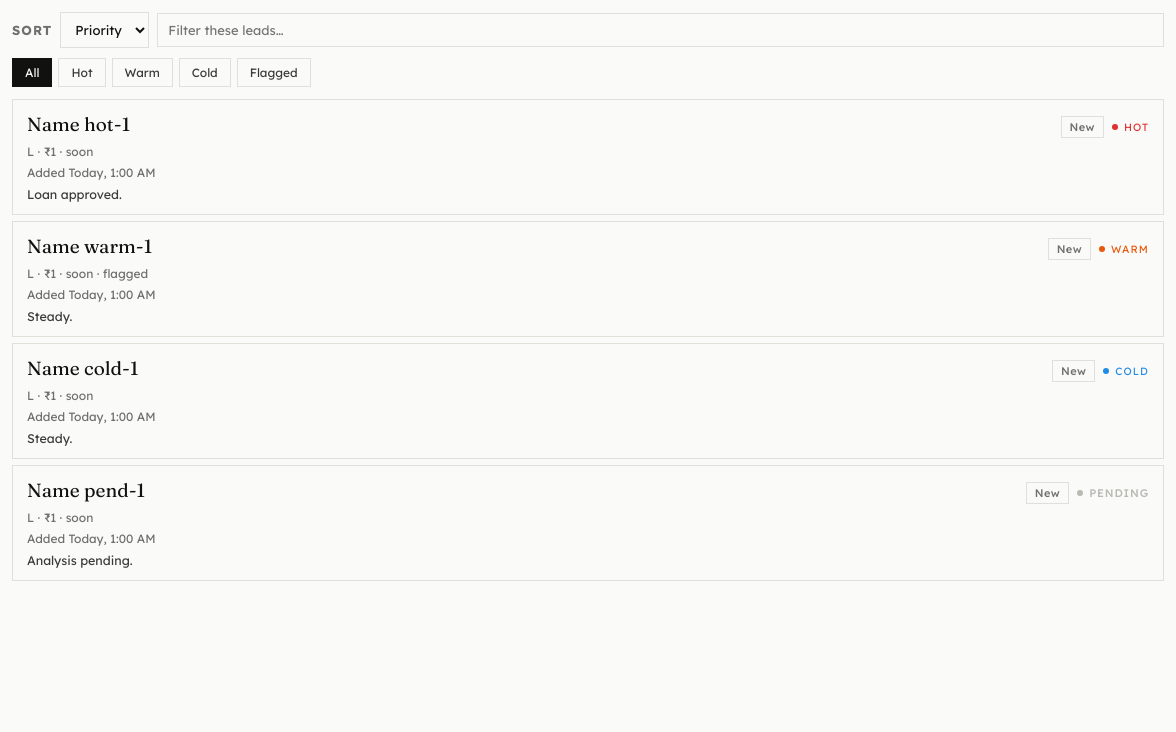
Scenario: flagged filter shows only leads with the flag
Step 1. Click the button "Flagged" → click(274, 72), box [237,58,311,87]
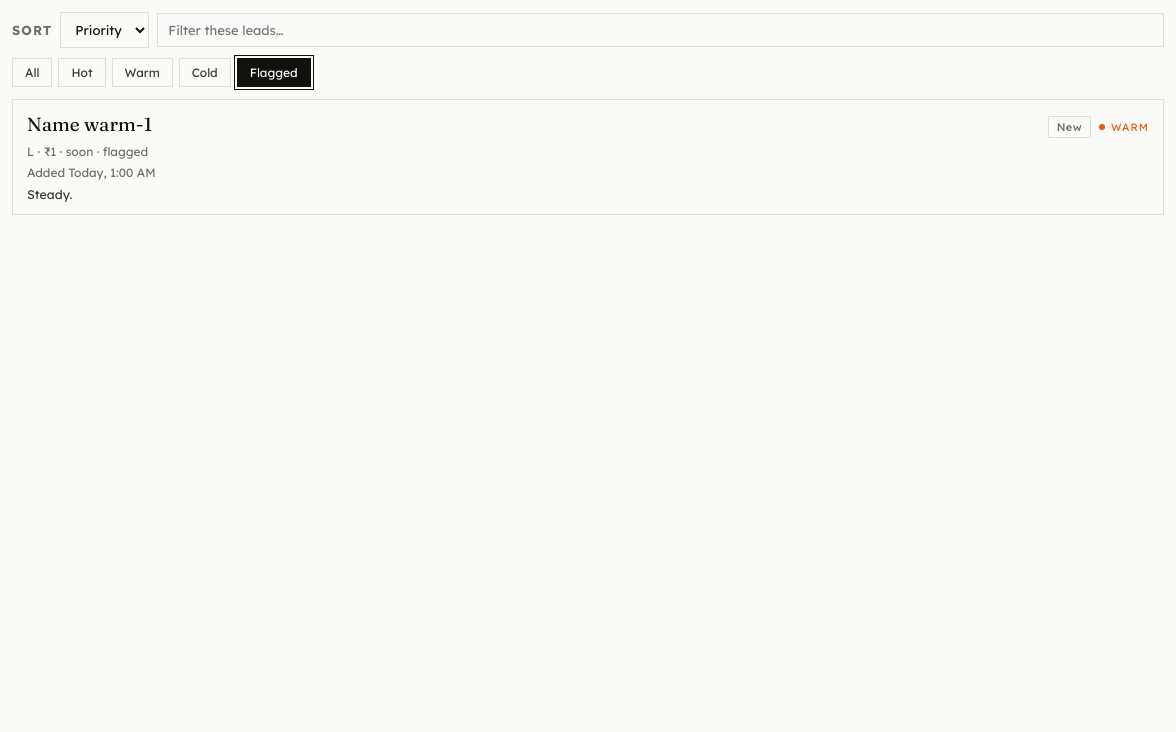
Check: the number of links is 1, box [12,99,1164,215]
